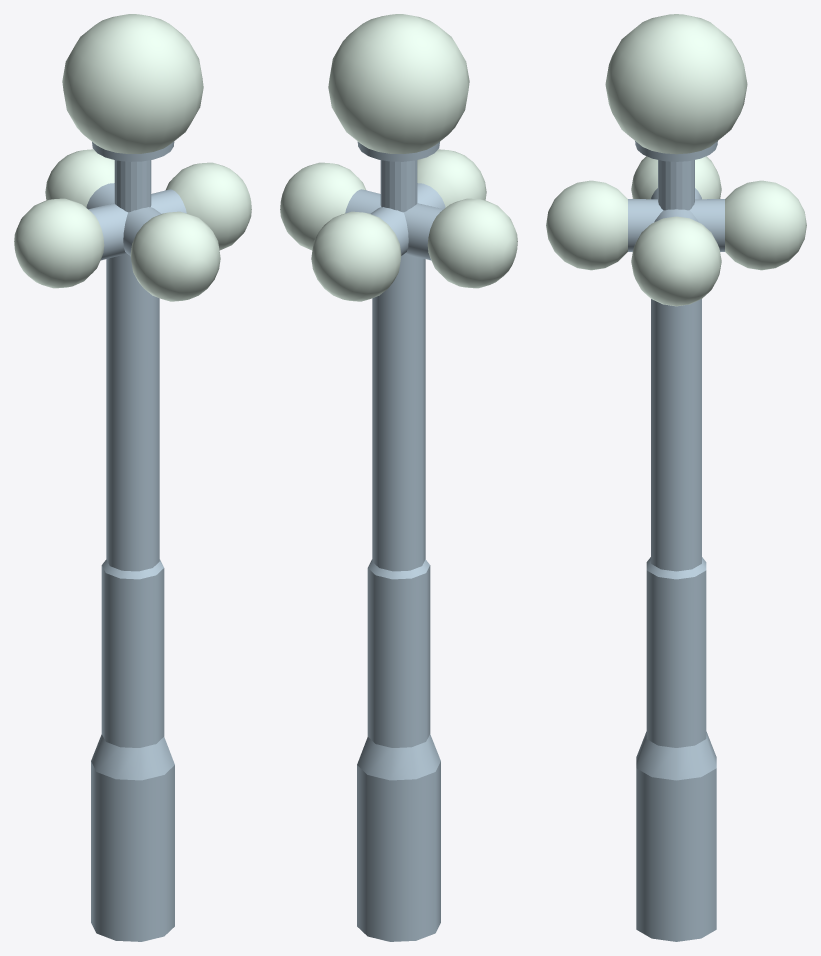
The model's file is streetlight_09.fbx.
3 renders of one model, left to right at view 1: azimuth 30°, elevation 25°; view 2: azimuth 150°, elevation 25°; view 3: azimuth 270°, elevation 25°, orthographic.
Visible parts, largest first — view 1: streetlight_09, pSphere19, pSphere17, pSphere16, pSphere15, pSphere18; view 2: streetlight_09, pSphere19, pSphere17, pSphere18, pSphere15, pSphere16; view 3: streetlight_09, pSphere19, pSphere18, pSphere16, pSphere15, pSphere17.
Part boxes in pixels (x1=…): streetlight_09: x1=91, y1=253, x2=174, y2=941; pSphere19: x1=62, y1=14, x2=203, y2=212; pSphere17: x1=14, y1=198, x2=127, y2=288; pSphere16: x1=123, y1=207, x2=220, y2=301; pSphere15: x1=151, y1=162, x2=251, y2=250; pSphere18: x1=45, y1=149, x2=114, y2=209; streetlight_09: x1=357, y1=253, x2=440, y2=941; pSphere19: x1=328, y1=14, x2=469, y2=212; pSphere17: x1=404, y1=198, x2=517, y2=288; pSphere18: x1=311, y1=207, x2=408, y2=301; pSphere15: x1=280, y1=162, x2=380, y2=250; pSphere16: x1=417, y1=149, x2=486, y2=209; streetlight_09: x1=636, y1=299, x2=716, y2=941; pSphere19: x1=605, y1=14, x2=747, y2=210; pSphere18: x1=689, y1=180, x2=806, y2=270; pSphere16: x1=546, y1=180, x2=663, y2=270; pSphere15: x1=631, y1=209, x2=721, y2=306; pSphere17: x1=631, y1=156, x2=721, y2=199.
Size of the model in its own units: 1.33 by 5.1 by 1.33.
